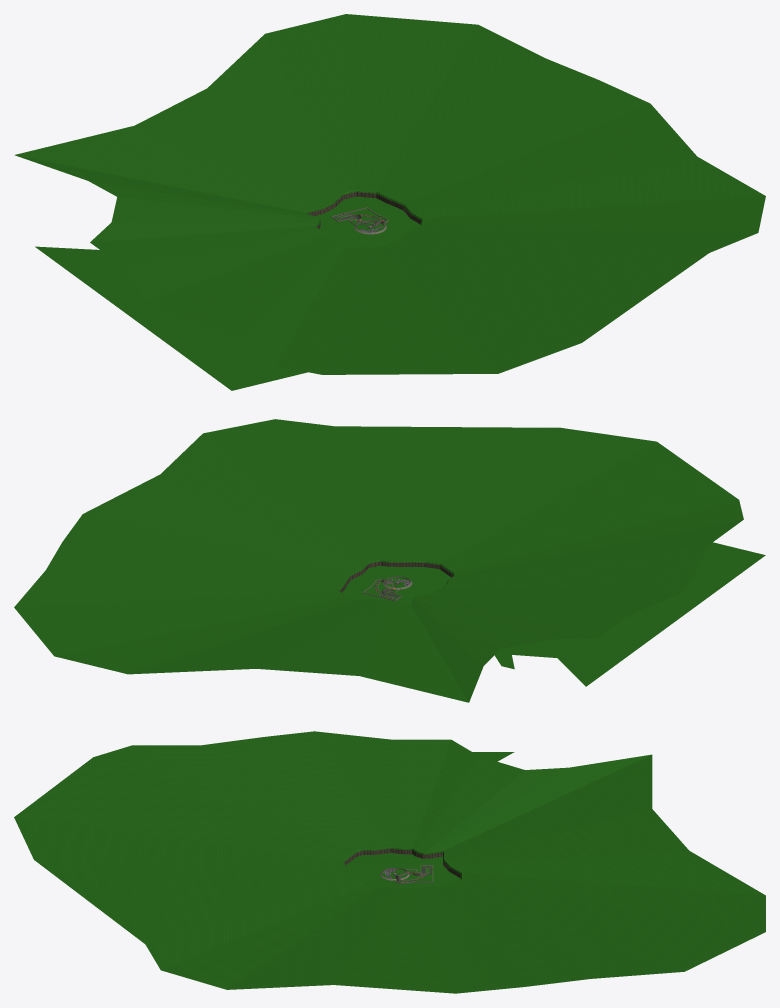
3 renders of one model, top to bottom at view 1: azimuth 30°, elevation 25°; view 2: azimuth 150°, elevation 25°; view 3: azimuth 270°, elevation 25°, orthographic. The views are drawn at different scales.
Visible parts, largest first — view 1: grass_Luigi_Park_Main_Road_001, wall_Luigi_Park_Main_Wall_1_002; view 2: grass_Luigi_Park_Main_Road_001, wall_Luigi_Park_Main_Wall_1_002; view 3: grass_Luigi_Park_Main_Road_001, wall_Luigi_Park_Main_Wall_1_002.
Part boxes in pixels (x1,y1,x2,y2): grass_Luigi_Park_Main_Road_001: [14, 14, 765, 390]; wall_Luigi_Park_Main_Wall_1_002: [304, 190, 422, 228]; grass_Luigi_Park_Main_Road_001: [14, 419, 765, 702]; wall_Luigi_Park_Main_Wall_1_002: [338, 560, 454, 596]; grass_Luigi_Park_Main_Road_001: [14, 731, 765, 993]; wall_Luigi_Park_Main_Wall_1_002: [343, 847, 461, 884].
Bounding box in the file's own units: 1843317 × 78924 × 2223141.
10 materials, 10 textured.
